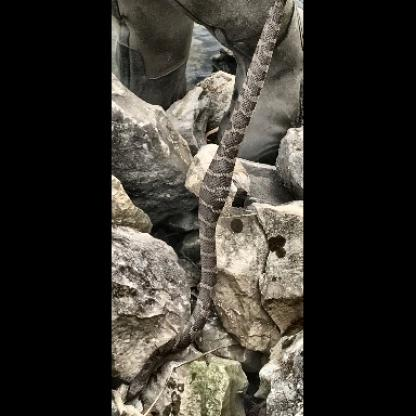Snake: (166, 0, 304, 416)
